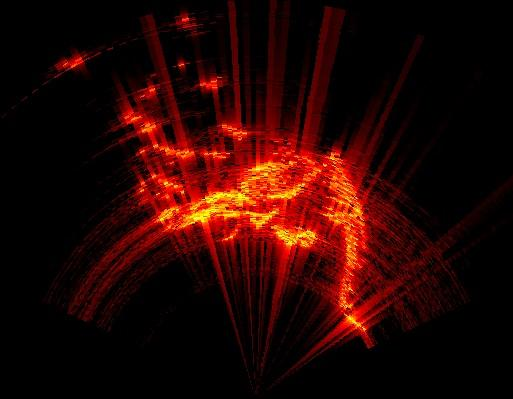shipwreck: (158, 157, 365, 329), (137, 142, 195, 162), (273, 222, 319, 247), (150, 167, 184, 195), (129, 115, 155, 140)
